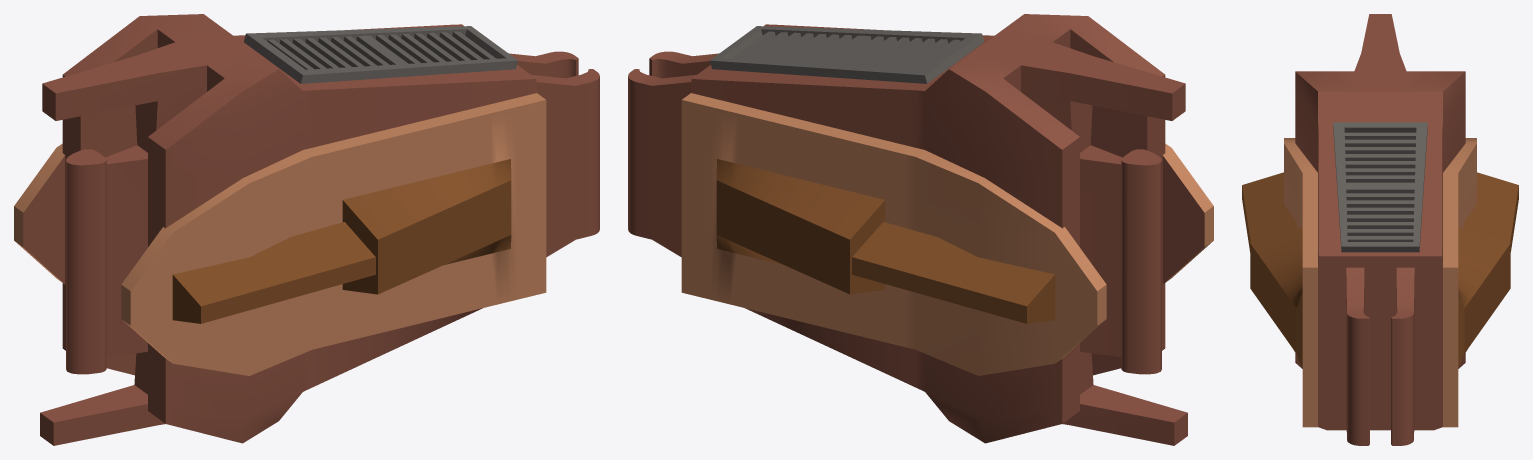
File: Onderdeel Staart Nummer 7.fbx
3 views of the same model, side by side, from view 1: azimuth 30°, elevation 25°; view 2: azimuth 150°, elevation 25°; view 3: azimuth 270°, elevation 25° (orthographic). The views are drawn at different scales.
Visible parts, largest first — view 1: Onderdeel staart.017; view 2: Onderdeel staart.017; view 3: Onderdeel staart.017.
Boxes of the visible parts, x1,y1,x2,y2 form: Onderdeel staart.017: (14,14,599,445); Onderdeel staart.017: (628,14,1213,445); Onderdeel staart.017: (1242,14,1518,445).
Bounding box in the file's own units: 619 × 386 × 332.
